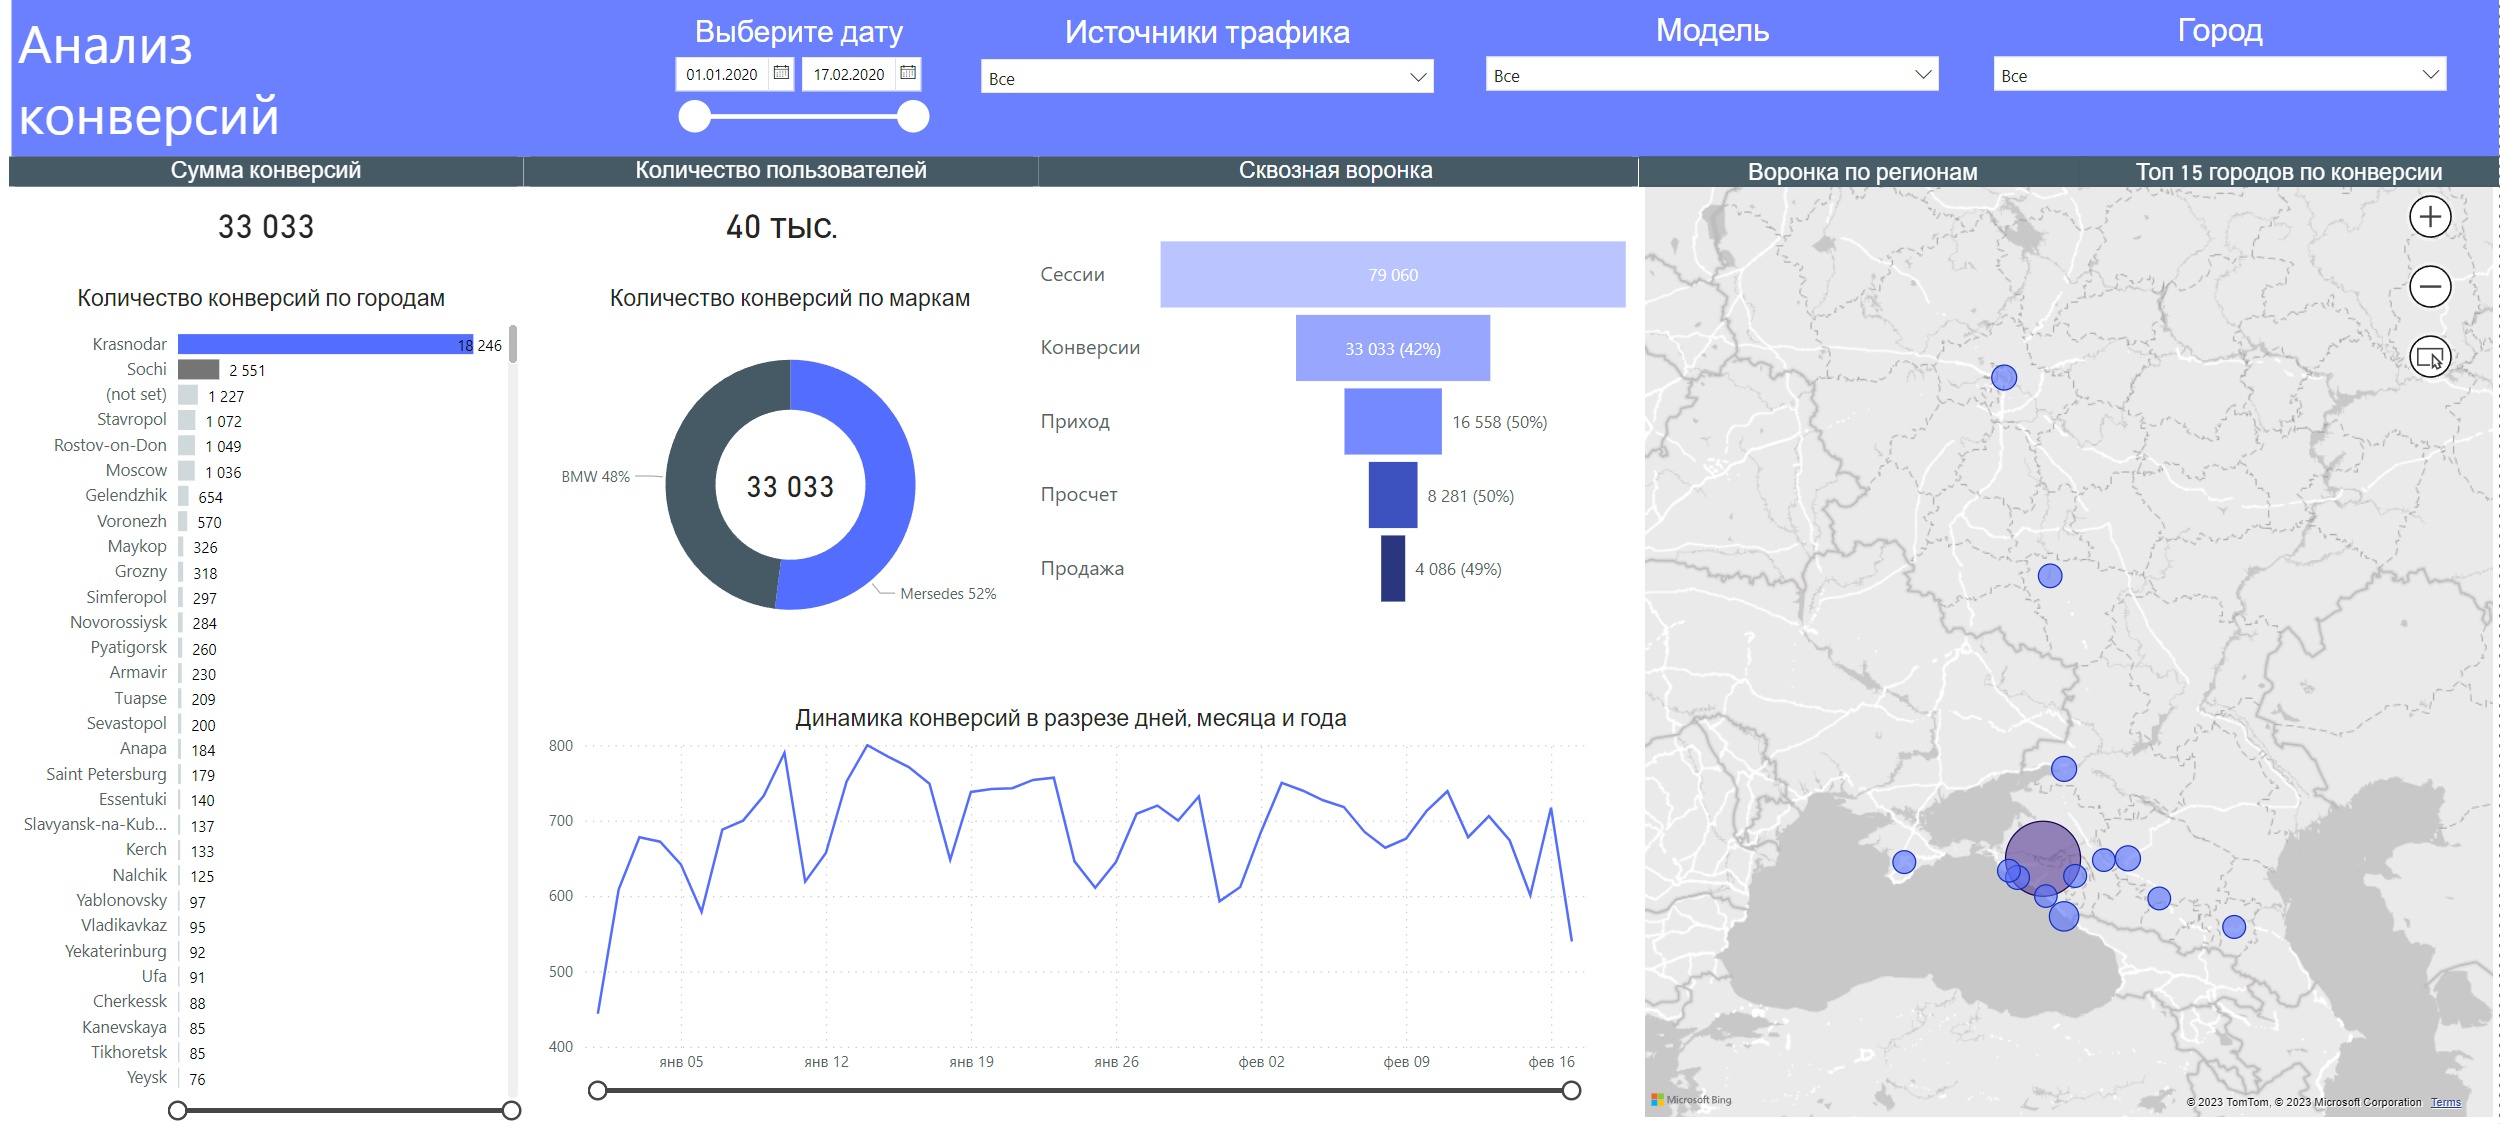

The page's visual inventory and layout, read from the dashboard file:
{"tool":"powerbi","page":{"name":"Сквозная аналитика","canvas":[2000,900],"ordinal":0},"visuals":[{"type":"textbox","box":[10,0,1990,128],"z":0},{"type":"barChart","title":"Количество конверсий по городам","fields":{"Y":["Sum(Маркетинговые данные.Конверсия)"],"Category":["Маркетинговые данные.City"]},"box":[0,228,420,656],"z":1000},{"type":"lineChart","title":"Динамика конверсий в разрезе дней, месяца и года","fields":{"Y":["Sum(Маркетинговые данные.Конверсия)"],"Category":["Маркетинговые данные.Date.Изменение.Иерархия дат.Год","Маркетинговые данные.Date.Изменение.Иерархия дат.Месяц","Маркетинговые данные.Date.Изменение.Иерархия дат.День"]},"box":[434,564,848,320],"z":2000},{"type":"donutChart","title":"Количество конверсий по маркам","fields":{"Category":["Маркетинговые данные.Марка"],"Y":["Sum(Маркетинговые данные.Конверсия)"]},"box":[434,228,398,302],"z":3000},{"type":"card","fields":{"Values":["Sum(Маркетинговые данные.Конверсия)"]},"box":[576,288,114,202],"z":4000},{"type":"slicer","title":"Город","fields":{"Values":["Маркетинговые данные.Region","Маркетинговые данные.City"]},"box":[1586,10,382,128],"z":5000},{"type":"slicer","title":"Модель","fields":{"Values":["Маркетинговые данные.Марка"]},"box":[1180,10,382,128],"z":6000},{"type":"slicer","title":"Источники трафика","fields":{"Values":["Маркетинговые данные.Medium","Маркетинговые данные.Source","Маркетинговые данные.Campaign","Маркетинговые данные.Keyword"]},"box":[776,12,382,126],"z":7000},{"type":"slicer","title":" Выберите дату","fields":{"Values":["Маркетинговые данные.Date"]},"box":[527.1,12.9,224.3,101.4],"z":8000},{"type":"funnel","title":"Сквозная воронка","fields":{"Y":["Sum(Маркетинговые данные.Sessions)","Sum(Маркетинговые данные.Конверсия)","Sum(Данные из CRM.Приход к диллеру)","Sum(Данные из CRM.Просчет стоимости модели)","Sum(Данные из CRM.Продажа)"]},"box":[828.9,125.6,483.3,404.4],"z":9000},{"type":"card","title":"Сумма конверсий","fields":{"Values":["Sum(Маркетинговые данные.Конверсия)"]},"box":[10,126,410,90],"z":10000},{"type":"card","title":"Количество пользователей","fields":{"Values":["Count(Данные из CRM.Client ID)"]},"box":[419.4,125.9,411.8,90],"z":11000},{"type":"map","title":"Топ 15 городов по количеству конверсий","fields":{"Category":["Маркетинговые данные.City"],"Size":["Sum(Маркетинговые данные.Конверсия)"]},"box":[1312,126,688,774],"z":12000},{"type":"shape","box":[1312.2,125.6,358.9,24.4],"z":14000},{"type":"shape","box":[1663.3,125.6,336.7,24.4],"z":15000}]}

Visuals, with their boxes in screenshot pixels (x1, y1, x2, y2), scaled from the page's 2000x900 canvas onto the 2500x1124 screenshot:
textbox: (12, 0, 2499, 160)
"Количество конверсий по городам" barChart: (0, 285, 525, 1104)
"Динамика конверсий в разрезе дней, месяца и года" lineChart: (542, 704, 1602, 1104)
"Количество конверсий по маркам" donutChart: (542, 285, 1040, 662)
card - Sum(Маркетинговые данные.Конверсия): (720, 360, 862, 612)
"Город" slicer: (1982, 12, 2460, 172)
"Модель" slicer: (1475, 12, 1952, 172)
"Источники трафика" slicer: (970, 15, 1448, 172)
" Выберите дату" slicer: (659, 16, 939, 143)
"Сквозная воронка" funnel: (1036, 157, 1640, 662)
"Сумма конверсий" card: (12, 157, 525, 270)
"Количество пользователей" card: (524, 157, 1039, 270)
"Топ 15 городов по количеству конверсий" map: (1640, 157, 2499, 1123)
shape: (1640, 157, 2089, 187)
shape: (2079, 157, 2499, 187)
